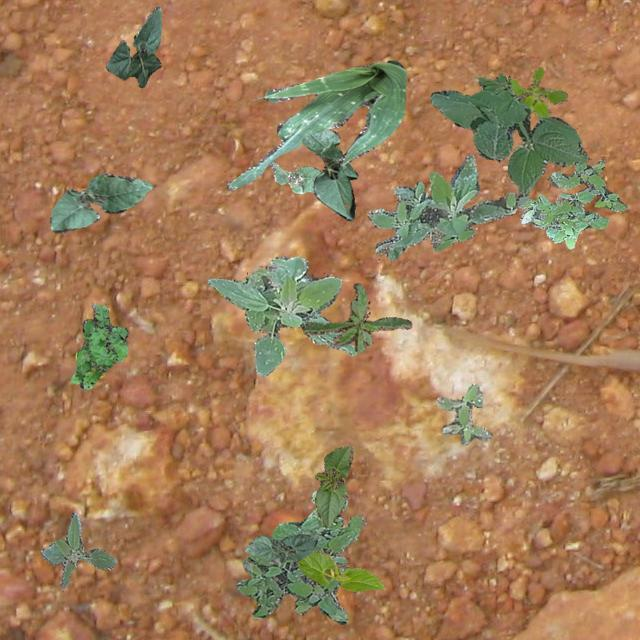crop: (226, 59, 404, 190), (207, 254, 356, 376), (49, 172, 152, 232), (300, 128, 356, 220), (104, 5, 160, 86), (296, 552, 384, 590), (314, 444, 352, 526), (244, 534, 316, 564), (268, 158, 320, 192)
weed: (428, 73, 588, 194), (367, 153, 528, 260), (235, 490, 362, 624), (518, 158, 626, 248), (300, 282, 410, 352), (40, 512, 116, 586), (70, 302, 128, 388), (434, 382, 490, 443), (508, 65, 566, 118)
